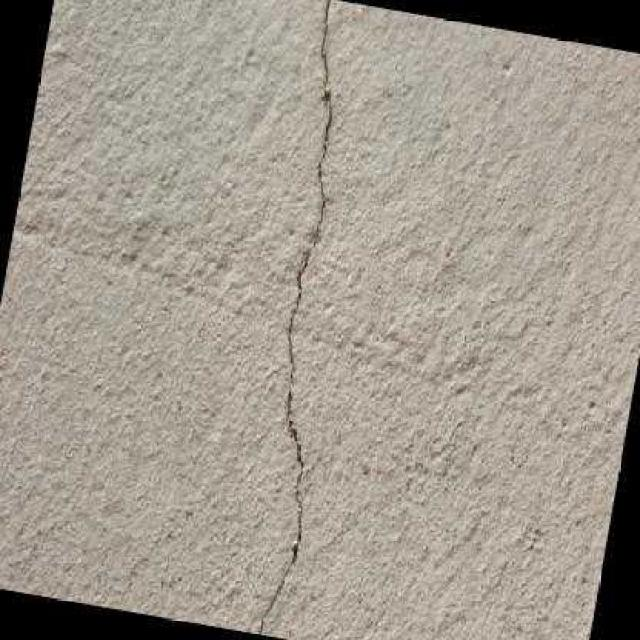D00: (256, 0, 331, 634)
